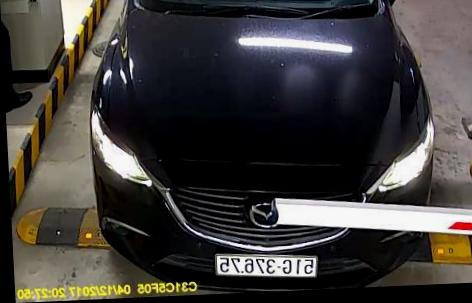License_Plate: (217, 255, 317, 279)
